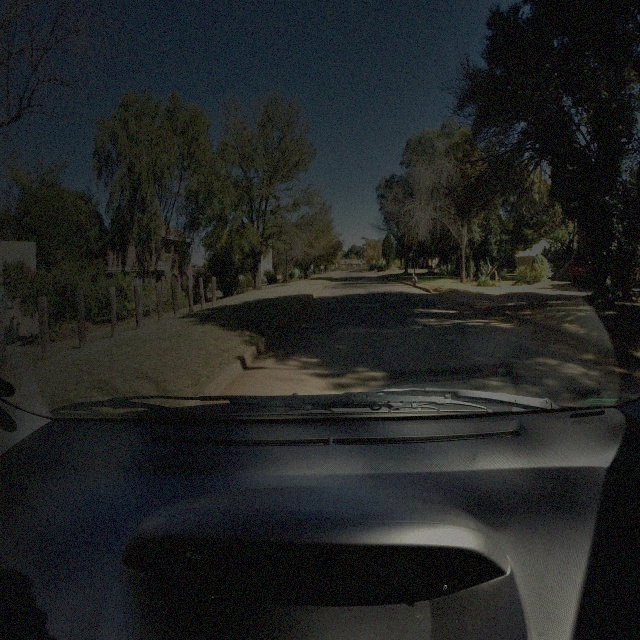pothole: (318, 328, 339, 338)
